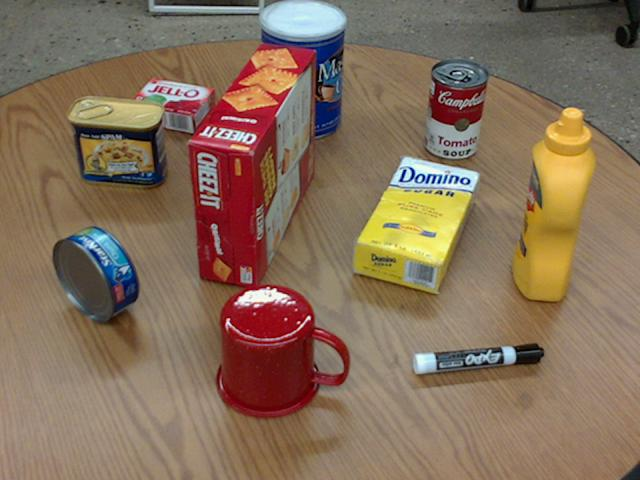cracker_box: (188, 42, 313, 288)
gelatin_box: (126, 77, 213, 130)
large_marker: (413, 343, 542, 374)
master_chef_can: (259, 0, 344, 138)
mug: (216, 283, 347, 417)
mustard_bottle: (512, 109, 594, 300)
potted_meat_can: (67, 95, 166, 185)
sugar_box: (352, 158, 479, 290)
tomato_soup_can: (423, 59, 488, 159)
tuna_fish_can: (53, 226, 139, 320)
